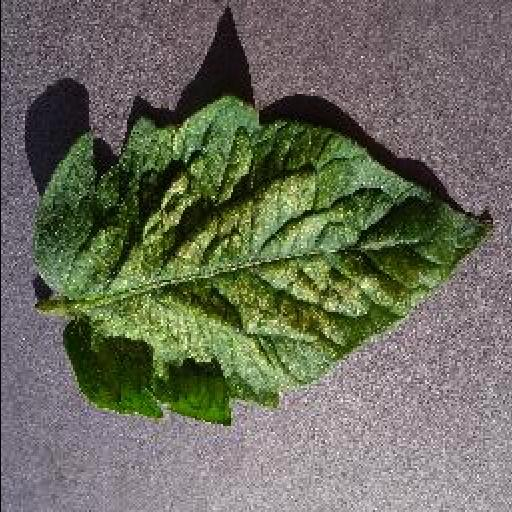disease_tomato: (32, 100, 496, 426)
